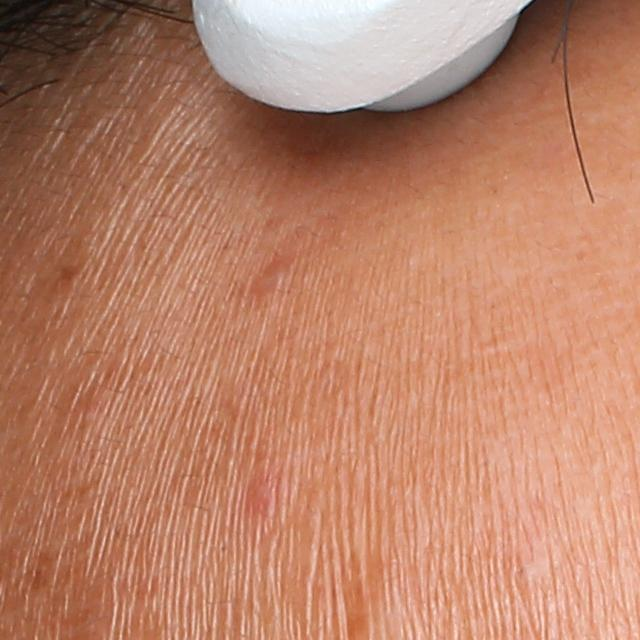comedo: (511, 549, 541, 585)
papule: (254, 257, 299, 297)
